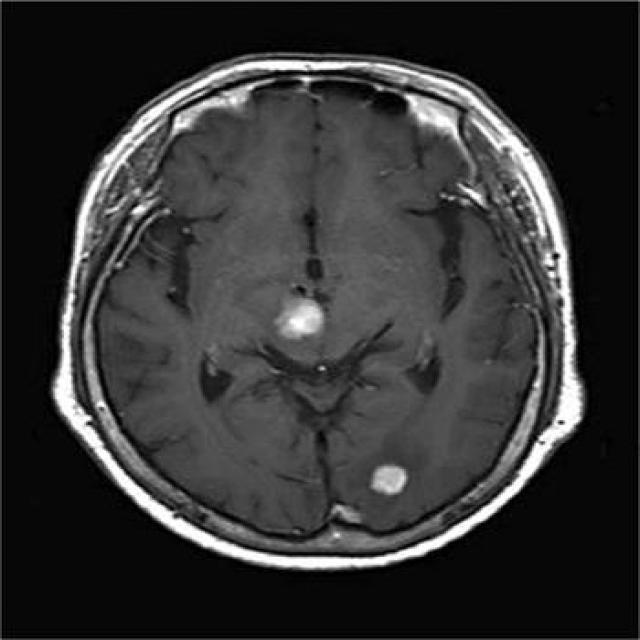notumor: (49, 52, 585, 575)
